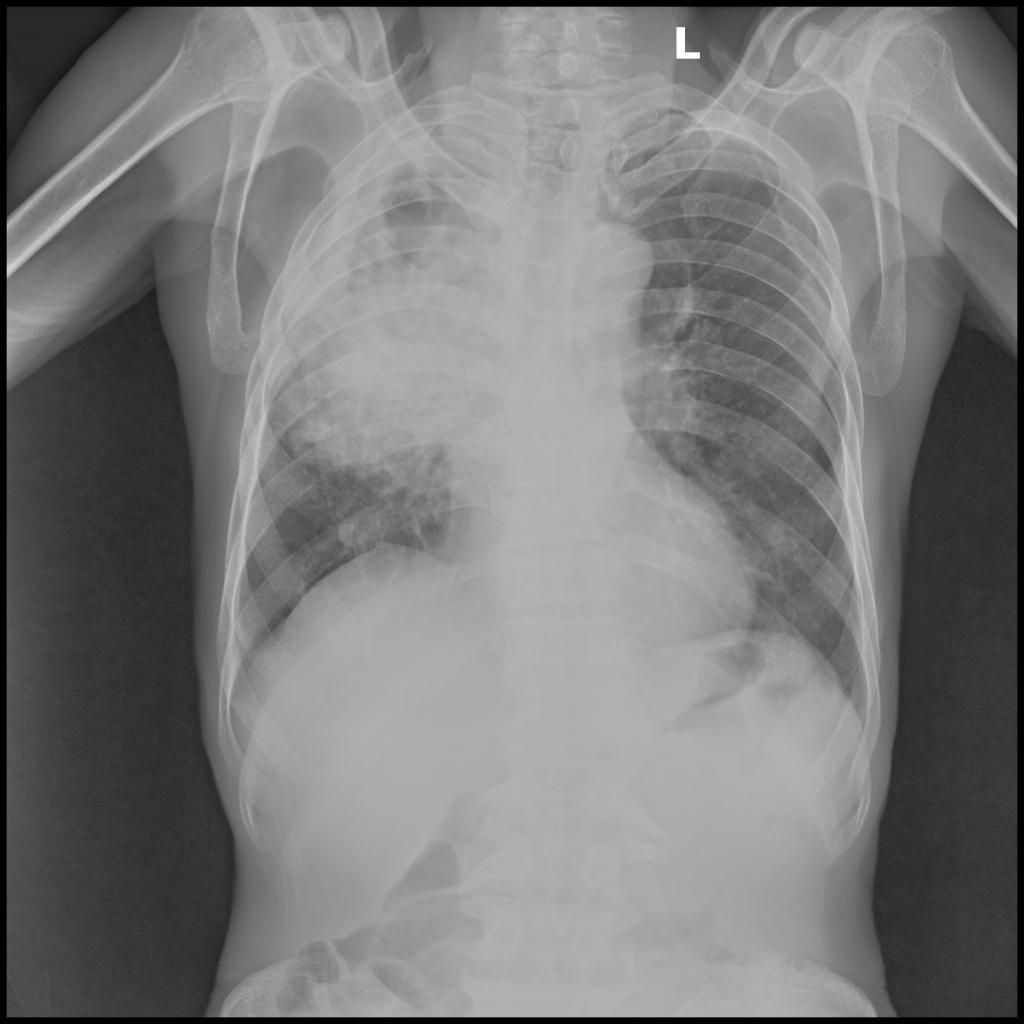Nodule: (287, 270, 498, 486), (687, 319, 725, 365), (766, 527, 785, 546)
